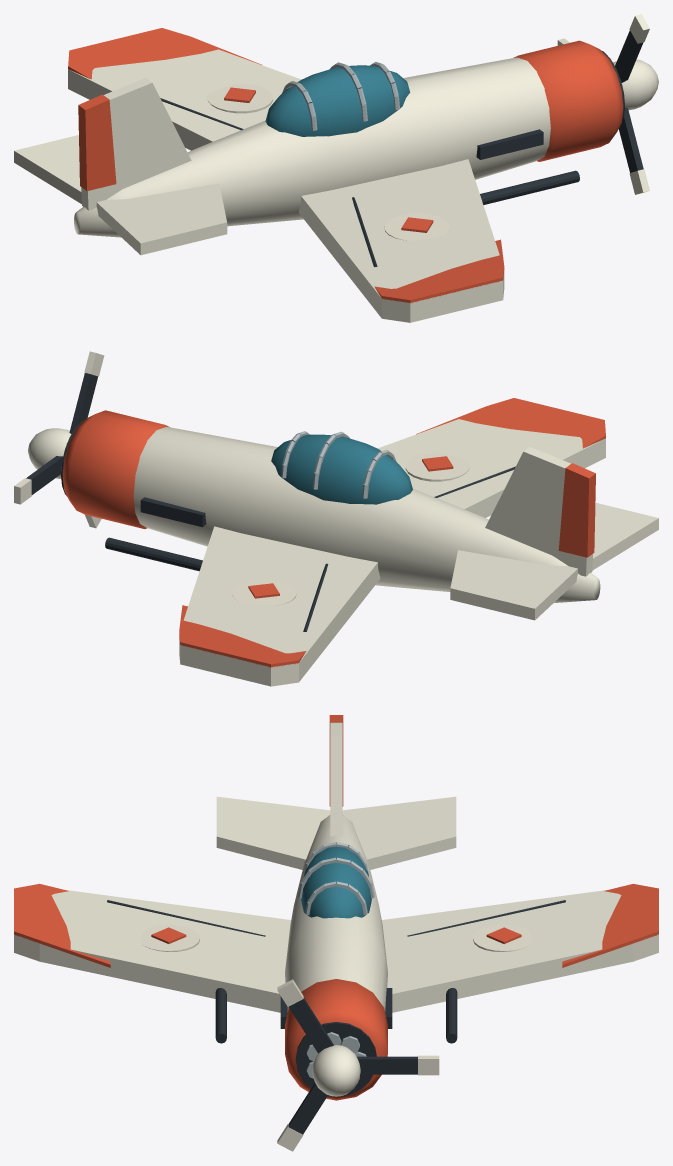
File: fighter.glb
The picture shows the model from 3 angles, top to bottom: view 1: azimuth 30°, elevation 25°; view 2: azimuth 150°, elevation 25°; view 3: azimuth 270°, elevation 25°; orthographic projection. The views are drawn at different scales.
Visible parts, largest first — view 1: Aircraft_fighter.002_Air_Ivory.003, Aircraft_fighter.002_Air_Vermilion.003, Aircraft_fighter.002_Air_Blue_Glass.003, Aircraft_fighter.002_Air_Charcoal.003, Propeller_fighter.002_Air_Ivory.003, Propeller_fighter.002_Air_Charcoal.003, Aircraft_fighter.002_Air_Aluminium.003; view 2: Aircraft_fighter.002_Air_Ivory.003, Aircraft_fighter.002_Air_Vermilion.003, Aircraft_fighter.002_Air_Blue_Glass.003, Aircraft_fighter.002_Air_Charcoal.003, Propeller_fighter.002_Air_Ivory.003, Propeller_fighter.002_Air_Charcoal.003, Aircraft_fighter.002_Air_Aluminium.003; view 3: Aircraft_fighter.002_Air_Ivory.003, Aircraft_fighter.002_Air_Vermilion.003, Aircraft_fighter.002_Air_Charcoal.003, Aircraft_fighter.002_Air_Blue_Glass.003, Propeller_fighter.002_Air_Ivory.003, Propeller_fighter.002_Air_Charcoal.003, Aircraft_fighter.002_Air_Aluminium.003.
Boxes of the visible parts, x1,y1,x2,y2 form: Aircraft_fighter.002_Air_Ivory.003: [14, 49, 550, 322]; Aircraft_fighter.002_Air_Vermilion.003: [68, 28, 623, 303]; Aircraft_fighter.002_Air_Blue_Glass.003: [265, 65, 410, 136]; Aircraft_fighter.002_Air_Charcoal.003: [160, 51, 624, 267]; Propeller_fighter.002_Air_Ivory.003: [557, 14, 658, 194]; Propeller_fighter.002_Air_Charcoal.003: [615, 30, 643, 172]; Aircraft_fighter.002_Air_Aluminium.003: [282, 62, 623, 130]; Aircraft_fighter.002_Air_Ivory.003: [133, 419, 658, 686]; Aircraft_fighter.002_Air_Vermilion.003: [62, 398, 605, 667]; Aircraft_fighter.002_Air_Blue_Glass.003: [271, 434, 412, 504]; Aircraft_fighter.002_Air_Charcoal.003: [61, 420, 515, 631]; Propeller_fighter.002_Air_Ivory.003: [14, 351, 104, 528]; Propeller_fighter.002_Air_Charcoal.003: [26, 373, 97, 494]; Aircraft_fighter.002_Air_Aluminium.003: [61, 431, 396, 498]; Aircraft_fighter.002_Air_Ivory.003: [14, 722, 658, 1012]; Aircraft_fighter.002_Air_Vermilion.003: [14, 715, 658, 1100]; Aircraft_fighter.002_Air_Charcoal.003: [107, 900, 565, 1096]; Aircraft_fighter.002_Air_Blue_Glass.003: [301, 846, 371, 918]; Propeller_fighter.002_Air_Ivory.003: [277, 979, 439, 1151]; Propeller_fighter.002_Air_Charcoal.003: [288, 998, 417, 1134]; Aircraft_fighter.002_Air_Aluminium.003: [298, 842, 374, 1081].
Size of the model in its own units: 1.37 by 0.4772 by 1.4.
